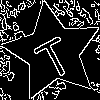T: (28, 27, 77, 82)
